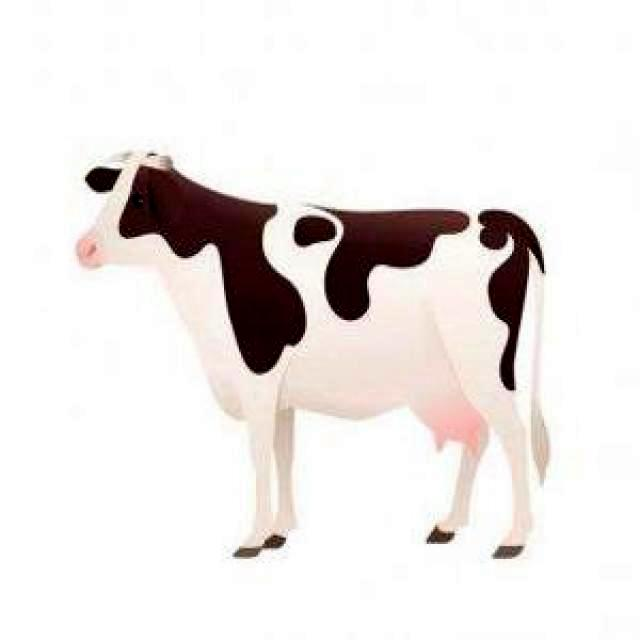COW: (78, 152, 549, 557)
